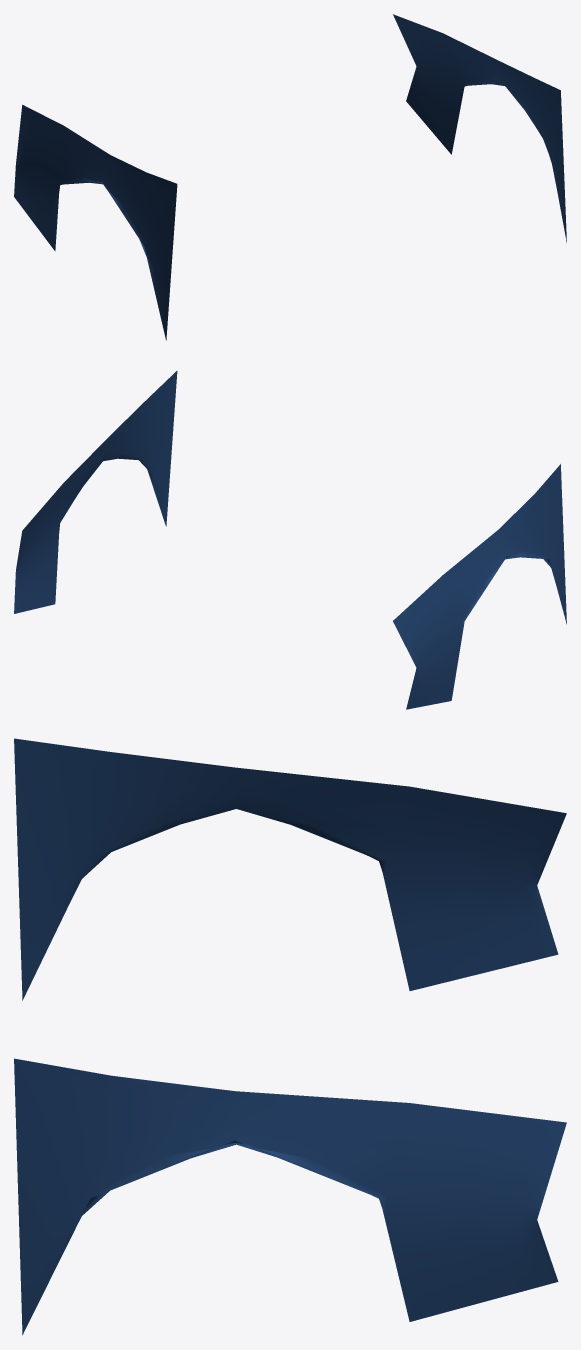
Rendered from GEO_Fender_Front.glb.
3 views of the same model, one above another, from view 1: azimuth 30°, elevation 25°; view 2: azimuth 150°, elevation 25°; view 3: azimuth 270°, elevation 25° (orthographic). The views are drawn at different scales.
Visible parts, largest first — view 1: GEO_Fender_Front; view 2: GEO_Fender_Front; view 3: GEO_Fender_Front.
Boxes of the visible parts, x1=… form: GEO_Fender_Front: x1=14, y1=14, x2=566, y2=340; GEO_Fender_Front: x1=14, y1=371, x2=566, y2=709; GEO_Fender_Front: x1=14, y1=738, x2=566, y2=1335.
Size of the model in its own units: 1.88 by 0.6997 by 1.3.
